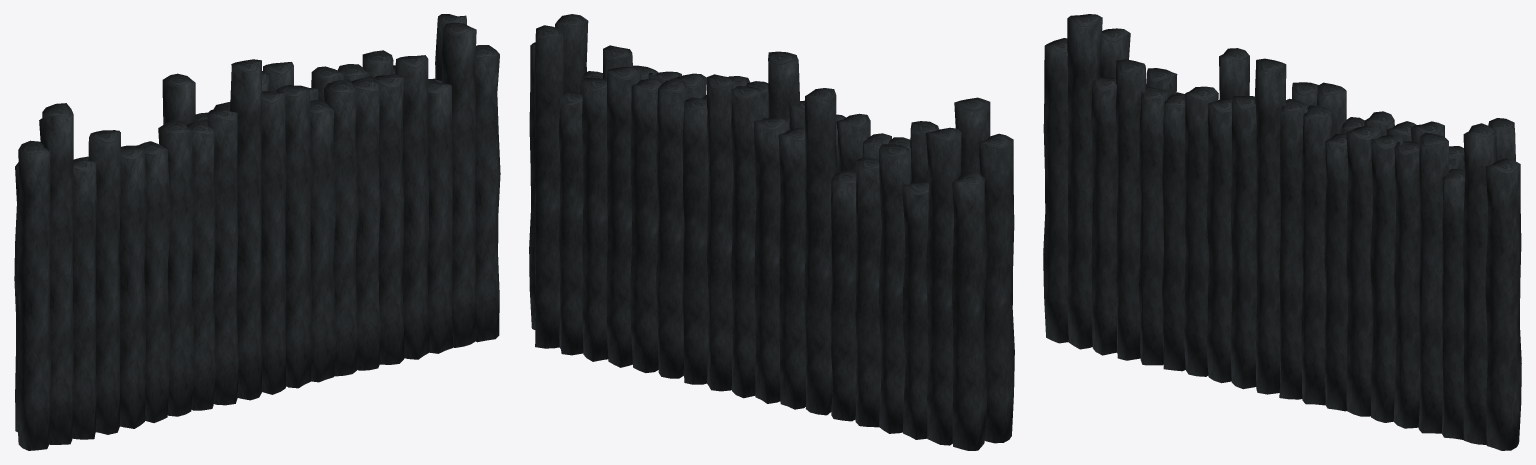
Rendered from PROJECT_Z_VR26_02_Columnar_Basalt_Wall_4m.glb.
3 views of the same model, side by side, from view 1: azimuth 30°, elevation 25°; view 2: azimuth 150°, elevation 25°; view 3: azimuth 330°, elevation 25° (orthographic).
Parts seen in each view (by area): view 1: 02_Columnar_Basalt_Wall_4m__RENDER_Column_Front_01, 02_Columnar_Basalt_Wall_4m__RENDER_Column_Front_10, 02_Columnar_Basalt_Wall_4m__RENDER_Column_Front_19, 02_Columnar_Basalt_Wall_4m__RENDER_Column_Front_02, 02_Columnar_Basalt_Wall_4m__RENDER_Column_Front_17, 02_Columnar_Basalt_Wall_4m__RENDER_Column_Front_12, 02_Columnar_Basalt_Wall_4m__RENDER_Column_Front_04, 02_Columnar_Basalt_Wall_4m__RENDER_Column_Front_11, 02_Columnar_Basalt_Wall_4m__RENDER_Column_Front_07, 02_Columnar_Basalt_Wall_4m__RENDER_Column_Front_05, 02_Columnar_Basalt_Wall_4m__RENDER_Column_Front_16, 02_Columnar_Basalt_Wall_4m__RENDER_Column_Front_09 (+14 smaller); view 2: 02_Columnar_Basalt_Wall_4m__RENDER_Column_Rear_01, 02_Columnar_Basalt_Wall_4m__RENDER_Column_Rear_07, 02_Columnar_Basalt_Wall_4m__RENDER_Column_Front_01, 02_Columnar_Basalt_Wall_4m__RENDER_Column_Rear_02, 02_Columnar_Basalt_Wall_4m__RENDER_Column_Rear_18, 02_Columnar_Basalt_Wall_4m__RENDER_Column_Rear_13, 02_Columnar_Basalt_Wall_4m__RENDER_Column_Rear_11, 02_Columnar_Basalt_Wall_4m__RENDER_Column_Rear_14, 02_Columnar_Basalt_Wall_4m__RENDER_Column_Rear_10, 02_Columnar_Basalt_Wall_4m__RENDER_Column_Rear_15, 02_Columnar_Basalt_Wall_4m__RENDER_Column_Rear_08, 02_Columnar_Basalt_Wall_4m__RENDER_Column_Rear_09 (+16 smaller); view 3: 02_Columnar_Basalt_Wall_4m__RENDER_Column_Front_20, 02_Columnar_Basalt_Wall_4m__RENDER_Column_Front_02, 02_Columnar_Basalt_Wall_4m__RENDER_Column_Front_10, 02_Columnar_Basalt_Wall_4m__RENDER_Column_Front_19, 02_Columnar_Basalt_Wall_4m__RENDER_Column_Front_09, 02_Columnar_Basalt_Wall_4m__RENDER_Column_Front_17, 02_Columnar_Basalt_Wall_4m__RENDER_Column_Front_12, 02_Columnar_Basalt_Wall_4m__RENDER_Column_Front_14, 02_Columnar_Basalt_Wall_4m__RENDER_Column_Front_01, 02_Columnar_Basalt_Wall_4m__RENDER_Column_Front_04, 02_Columnar_Basalt_Wall_4m__RENDER_Column_Front_16, 02_Columnar_Basalt_Wall_4m__RENDER_Column_Front_03 (+14 smaller).
Boxes of the visible parts, x1,y1,x2,y2 form: 02_Columnar_Basalt_Wall_4m__RENDER_Column_Front_01: (16, 140, 51, 450); 02_Columnar_Basalt_Wall_4m__RENDER_Column_Front_10: (230, 59, 261, 400); 02_Columnar_Basalt_Wall_4m__RENDER_Column_Front_19: (441, 22, 476, 347); 02_Columnar_Basalt_Wall_4m__RENDER_Column_Front_02: (42, 103, 73, 444); 02_Columnar_Basalt_Wall_4m__RENDER_Column_Front_17: (395, 55, 429, 359); 02_Columnar_Basalt_Wall_4m__RENDER_Column_Front_12: (276, 85, 312, 388); 02_Columnar_Basalt_Wall_4m__RENDER_Column_Front_04: (88, 130, 121, 434); 02_Columnar_Basalt_Wall_4m__RENDER_Column_Front_11: (261, 91, 286, 394); 02_Columnar_Basalt_Wall_4m__RENDER_Column_Front_07: (158, 120, 194, 416); 02_Columnar_Basalt_Wall_4m__RENDER_Column_Front_05: (119, 147, 146, 428); 02_Columnar_Basalt_Wall_4m__RENDER_Column_Front_16: (373, 73, 404, 364); 02_Columnar_Basalt_Wall_4m__RENDER_Column_Front_09: (207, 105, 238, 405); 02_Columnar_Basalt_Wall_4m__RENDER_Column_Rear_01: (952, 171, 987, 450); 02_Columnar_Basalt_Wall_4m__RENDER_Column_Rear_07: (804, 88, 837, 415); 02_Columnar_Basalt_Wall_4m__RENDER_Column_Front_01: (978, 133, 1014, 443); 02_Columnar_Basalt_Wall_4m__RENDER_Column_Rear_02: (926, 127, 961, 445); 02_Columnar_Basalt_Wall_4m__RENDER_Column_Rear_18: (534, 25, 564, 348); 02_Columnar_Basalt_Wall_4m__RENDER_Column_Rear_13: (655, 80, 688, 378); 02_Columnar_Basalt_Wall_4m__RENDER_Column_Rear_11: (706, 74, 736, 391); 02_Columnar_Basalt_Wall_4m__RENDER_Column_Rear_14: (630, 78, 663, 372); 02_Columnar_Basalt_Wall_4m__RENDER_Column_Rear_10: (731, 86, 762, 398); 02_Columnar_Basalt_Wall_4m__RENDER_Column_Rear_15: (606, 66, 641, 367); 02_Columnar_Basalt_Wall_4m__RENDER_Column_Rear_08: (778, 127, 806, 409); 02_Columnar_Basalt_Wall_4m__RENDER_Column_Rear_09: (754, 118, 789, 403); 02_Columnar_Basalt_Wall_4m__RENDER_Column_Front_20: (1485, 158, 1521, 450); 02_Columnar_Basalt_Wall_4m__RENDER_Column_Front_02: (1067, 14, 1102, 349); 02_Columnar_Basalt_Wall_4m__RENDER_Column_Front_10: (1254, 58, 1286, 394); 02_Columnar_Basalt_Wall_4m__RENDER_Column_Front_19: (1463, 123, 1497, 444); 02_Columnar_Basalt_Wall_4m__RENDER_Column_Front_09: (1230, 96, 1256, 389); 02_Columnar_Basalt_Wall_4m__RENDER_Column_Front_17: (1418, 132, 1448, 433); 02_Columnar_Basalt_Wall_4m__RENDER_Column_Front_12: (1300, 105, 1333, 405); 02_Columnar_Basalt_Wall_4m__RENDER_Column_Front_14: (1346, 125, 1382, 416); 02_Columnar_Basalt_Wall_4m__RENDER_Column_Front_01: (1043, 38, 1068, 343); 02_Columnar_Basalt_Wall_4m__RENDER_Column_Front_04: (1115, 59, 1146, 360); 02_Columnar_Basalt_Wall_4m__RENDER_Column_Front_16: (1393, 141, 1419, 428); 02_Columnar_Basalt_Wall_4m__RENDER_Column_Front_03: (1091, 77, 1117, 355).
Bounding box in the file's own units: 3.95 × 2.61 × 0.483.
Materials: 1 (1 with a texture image).
